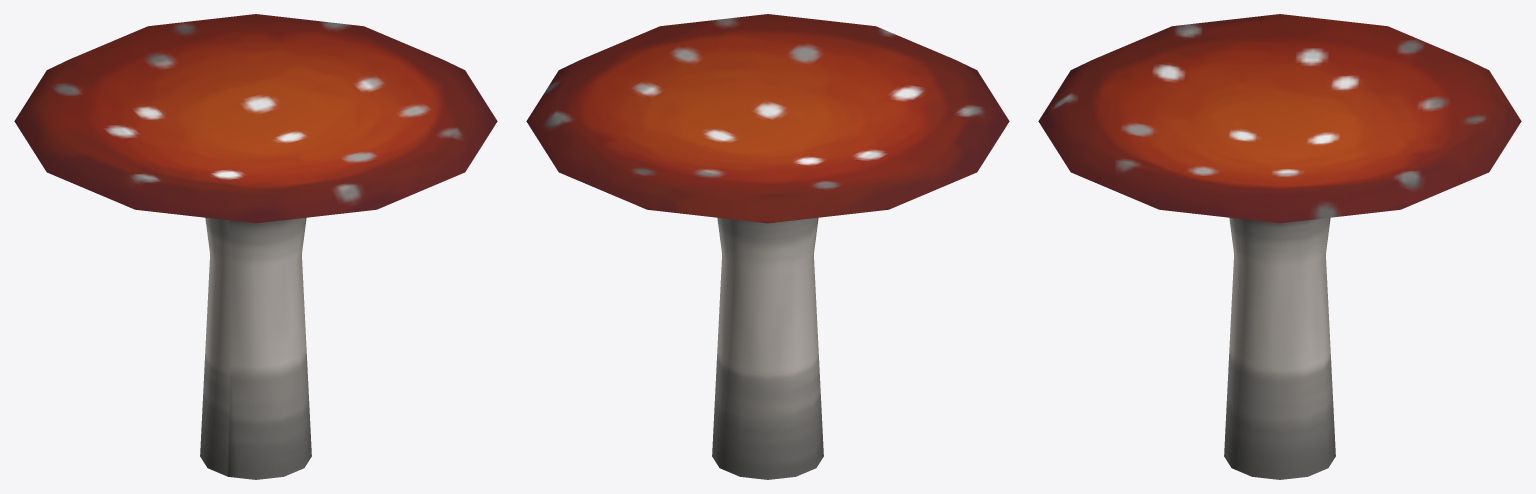
The model's file is shroom01.FBX.
3 views of the same model, side by side, from view 1: azimuth 30°, elevation 25°; view 2: azimuth 150°, elevation 25°; view 3: azimuth 270°, elevation 25° (orthographic).
Parts seen in each view (by area): view 1: Shroom01; view 2: Shroom01; view 3: Shroom01.
Boxes of the visible parts, box(x1,y1,x2,y2) form: Shroom01: box(14, 14, 497, 479); Shroom01: box(526, 14, 1009, 479); Shroom01: box(1038, 14, 1521, 479).
Bounding box in the file's own units: 19.51 × 15.64 × 19.51.
